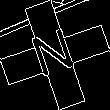N_S: (28, 25, 82, 85)
